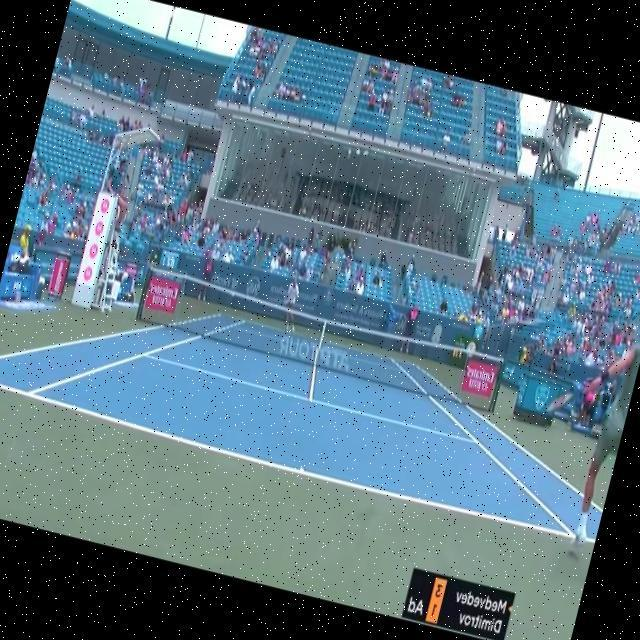court: (0, 260, 626, 549)
net: (129, 263, 510, 414)
player: (511, 294, 640, 559)
